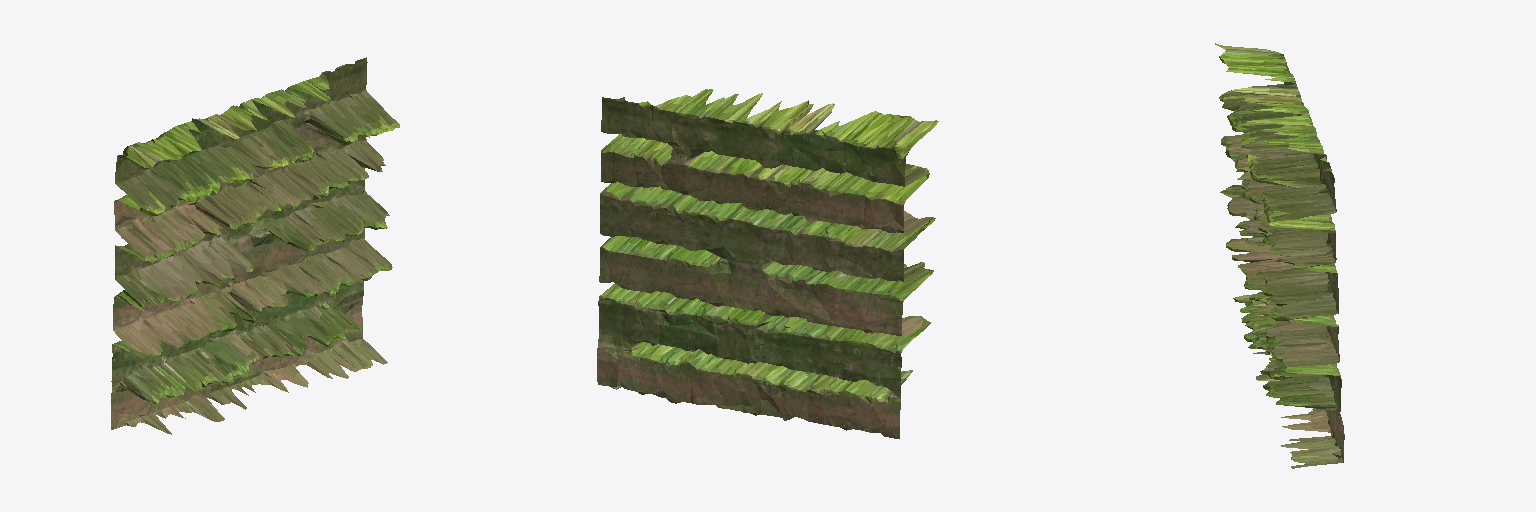
3 renders of one model, left to right at view 1: azimuth 30°, elevation 25°; view 2: azimuth 150°, elevation 25°; view 3: azimuth 270°, elevation 25°, orthographic.
Visible parts, largest first — view 1: grp1; view 2: grp1; view 3: grp1.
Boxes of the visible parts, x1=… form: grp1: x1=111, y1=57, x2=399, y2=434; grp1: x1=597, y1=89, x2=938, y2=438; grp1: x1=1215, y1=43, x2=1344, y2=468.
Size of the model in its own units: 10 by 10 by 4.05.
1 materials, 1 textured.